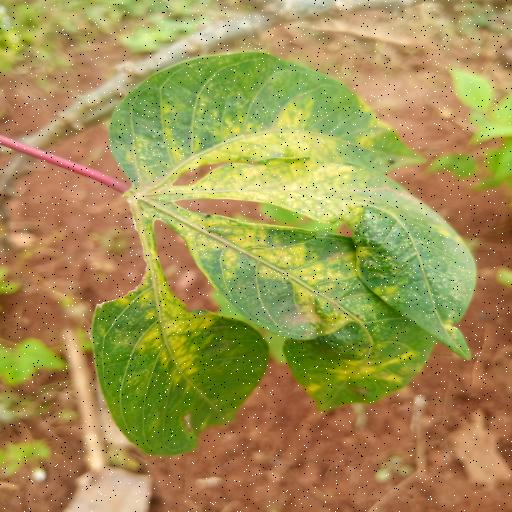Cassava_Mosaic: (88, 47, 481, 458)
